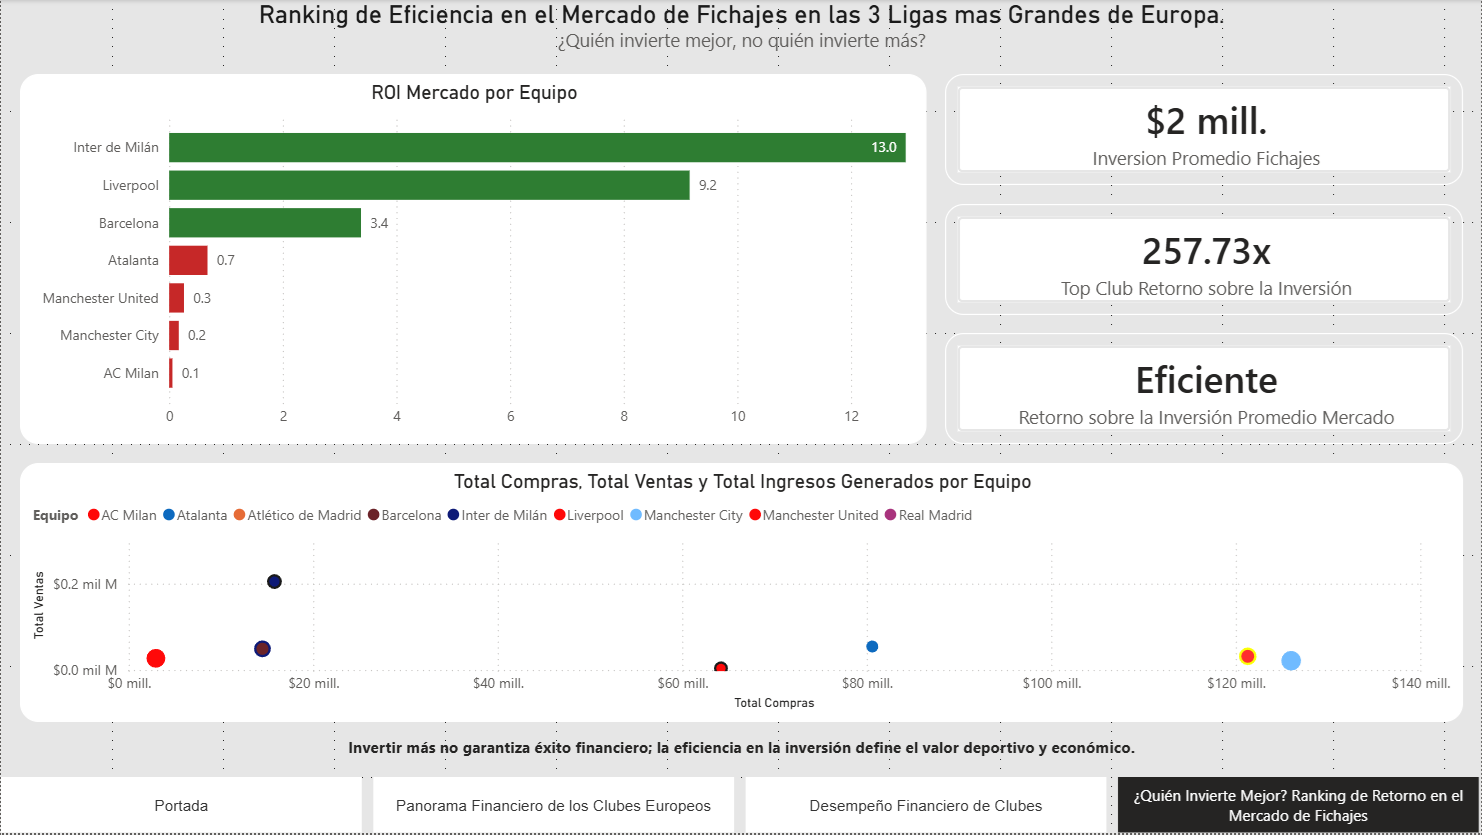

The dashboard page shown, as its layout file describes it:
{"tool":"powerbi","page":{"name":"¿Quién Invierte Mejor? Ranking de Retorno en el Mercado de Fichajes","canvas":[1280,720],"ordinal":3},"visuals":[{"type":"textbox","title":"Ranking de Eficiencia en el Mercado de Fichajes en las 3 Ligas mas Grandes de Europa.","box":[16,0,1248,48],"z":0},{"type":"barChart","fields":{"Y":["TRANSFERENCIAS 2.ROI Mercado"],"Category":["EQUIPO UNIFICADO.Equipo"]},"box":[16,64,784,320],"z":1000},{"type":"cardVisual","fields":{"Data":["EQUIPO UNIFICADO.Club Top ROI"]},"box":[816,176,448,96],"z":2000},{"type":"cardVisual","fields":{"Data":["TRANSFERENCIAS 2.Inversion Promedio Fichajes"]},"box":[816,64,448,96],"z":3000},{"type":"cardVisual","fields":{"Data":["_MEDIDAS.ROI Clasificacion"]},"box":[816,288,448,96],"z":4000},{"type":"scatterChart","fields":{"X":["TRANSFERENCIAS 2.Total Compras"],"Y":["TRANSFERENCIAS 2.Total Ventas"],"Size":["TABLA DE POSICIONES EN COMPETICIONES EUROPEAS.Total Ingresos Generados"],"Series":["EQUIPO UNIFICADO.Equipo"]},"box":[16,400,1248,224],"z":5000},{"type":"textbox","box":[16,640,1248,32],"z":6000},{"type":"pageNavigator","box":[0,672,1280,48],"z":6001}]}

Visuals, with their boxes on the page's 1280x720 design canvas (x1, y1, x2, y2). These are canvas units, not pixel positions in the 1482x835 screenshot, which may show the page scaled, cropped or inside an application window:
"Ranking de Eficiencia en el Mercado de Fichajes en las 3 Ligas mas Grandes de Europa." textbox: bbox(16, 0, 1264, 48)
barChart - TRANSFERENCIAS 2.ROI Mercado x EQUIPO UNIFICADO.Equipo: bbox(16, 64, 800, 384)
cardVisual - EQUIPO UNIFICADO.Club Top ROI: bbox(816, 176, 1264, 272)
cardVisual - TRANSFERENCIAS 2.Inversion Promedio Fichajes: bbox(816, 64, 1264, 160)
cardVisual - _MEDIDAS.ROI Clasificacion: bbox(816, 288, 1264, 384)
scatterChart - TRANSFERENCIAS 2.Total Compras x TRANSFERENCIAS 2.Total Ventas: bbox(16, 400, 1264, 624)
textbox: bbox(16, 640, 1264, 672)
pageNavigator: bbox(0, 672, 1280, 720)
